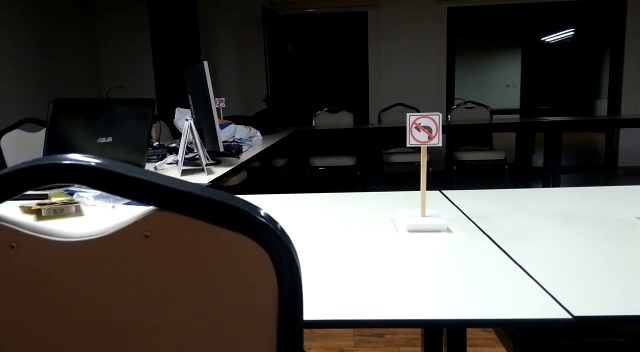sola_donulmez: (406, 112, 444, 147)
